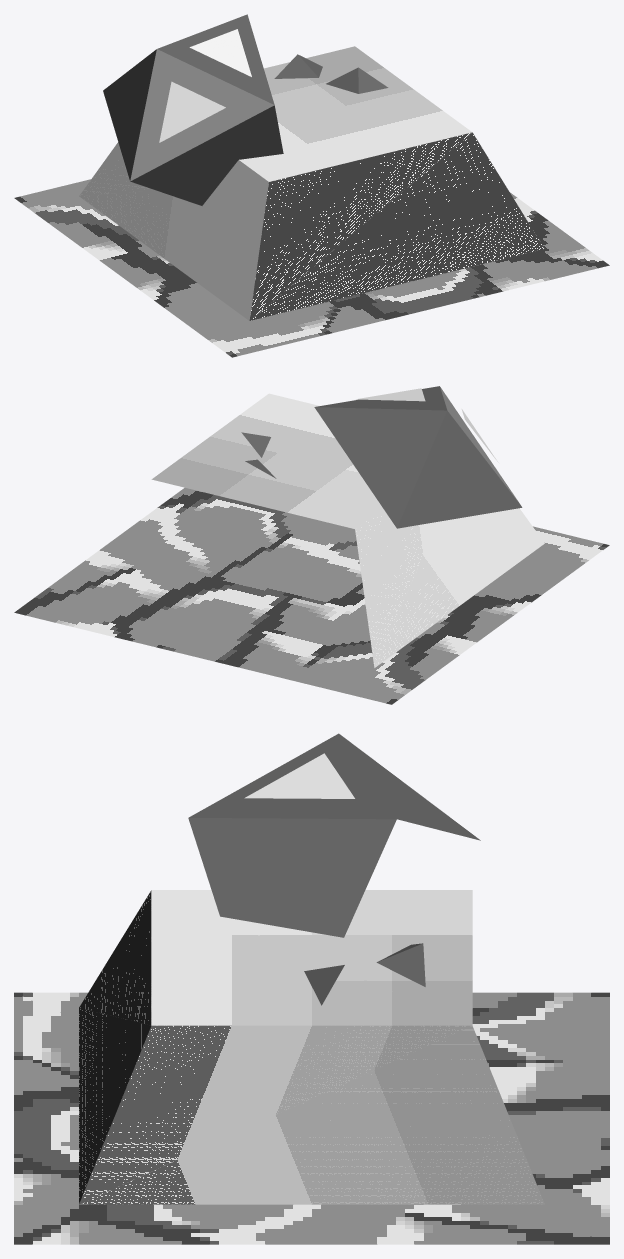
File: stone_Obstacle.gltf
3 views of the same model, one above another, from view 1: azimuth 30°, elevation 25°; view 2: azimuth 150°, elevation 25°; view 3: azimuth 270°, elevation 25° (orthographic). The views are drawn at different scales.
Visible parts, largest first — view 1: stone_Obstacle; view 2: stone_Obstacle; view 3: stone_Obstacle.
Part boxes in pixels (x1,y1,x2,y2): stone_Obstacle: [14, 14, 609, 357]; stone_Obstacle: [14, 386, 609, 704]; stone_Obstacle: [14, 733, 609, 1244].
Bounding box in the file's own units: 1.02 × 0.5337 × 1.
1 material, 1 textured.
